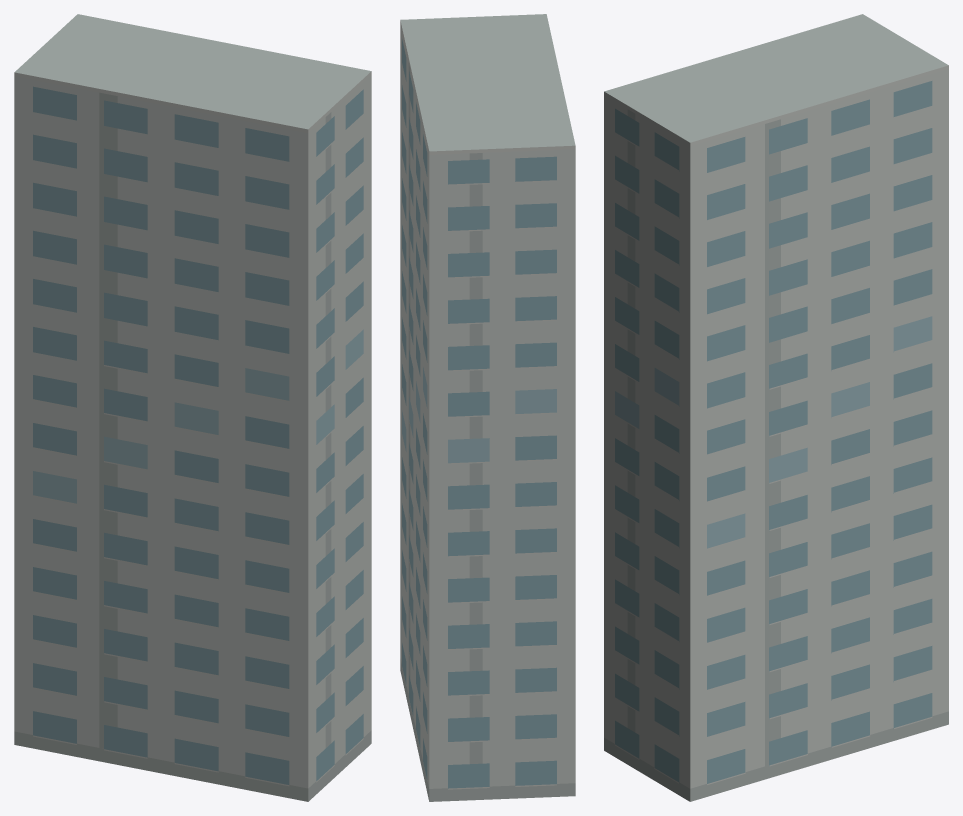
Rendered from residential-f8b0ab2c-9e0f-4aeb-ac1b-f48f7132edfa.glb.
The picture shows the model from 3 angles, left to right: view 1: azimuth 30°, elevation 25°; view 2: azimuth 150°, elevation 25°; view 3: azimuth 270°, elevation 25°; orthographic projection. The views are drawn at different scales.
Parts seen in each view (by area): view 1: residential-f8b0ab2c-9e0f-4aeb-ac1b-f48f7132edfa.tmp; view 2: residential-f8b0ab2c-9e0f-4aeb-ac1b-f48f7132edfa.tmp; view 3: residential-f8b0ab2c-9e0f-4aeb-ac1b-f48f7132edfa.tmp.
Part boxes in pixels (x1,y1,x2,y2): residential-f8b0ab2c-9e0f-4aeb-ac1b-f48f7132edfa.tmp: [14, 14, 371, 801]; residential-f8b0ab2c-9e0f-4aeb-ac1b-f48f7132edfa.tmp: [400, 14, 575, 801]; residential-f8b0ab2c-9e0f-4aeb-ac1b-f48f7132edfa.tmp: [604, 14, 948, 801].
Size of the model in its own units: 18.44 by 44 by 20.87.
